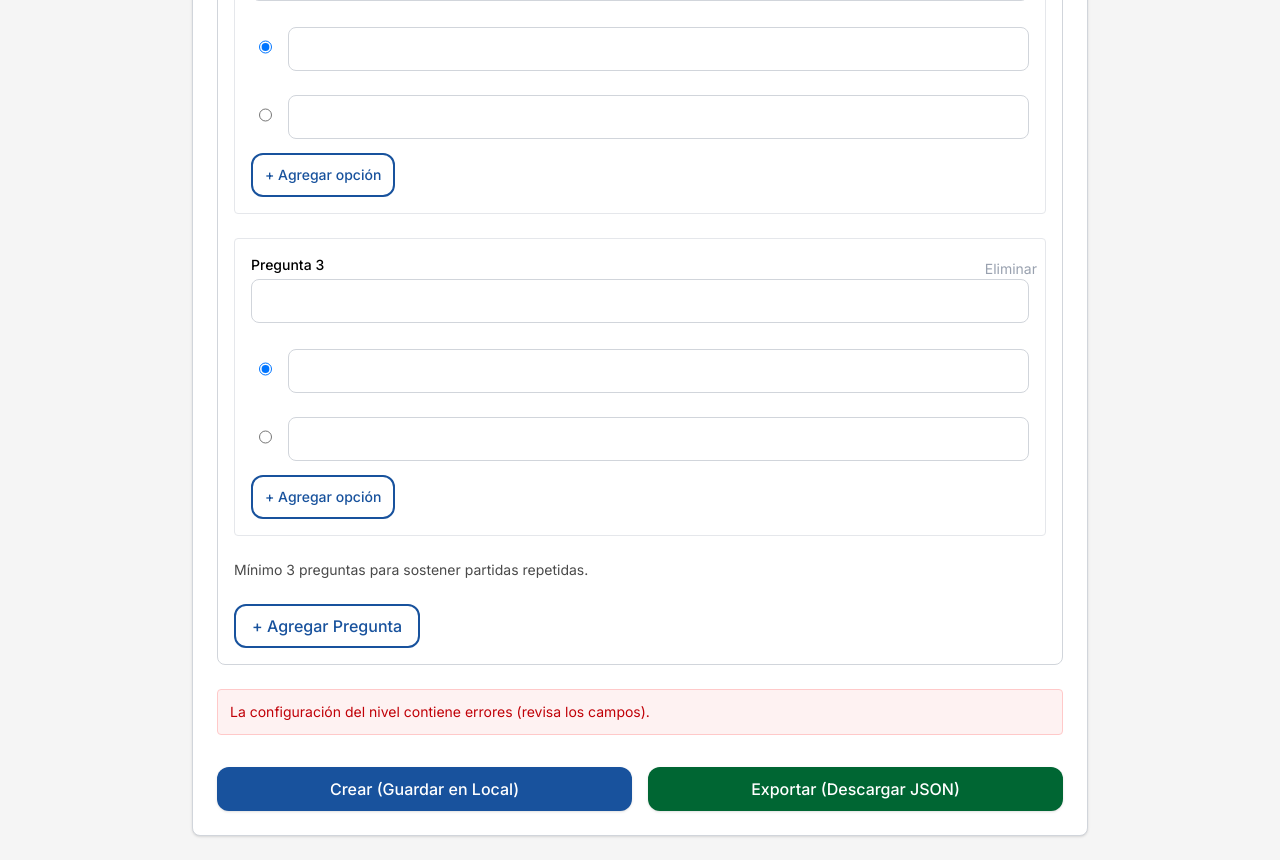
Test: MakerPage › refuses to save when the title is empty
This screenshot has width=1280, height=860.
(page scrolled)
Click the button "Crear (Guardar en Local)": (424, 789) [217,767,632,811]
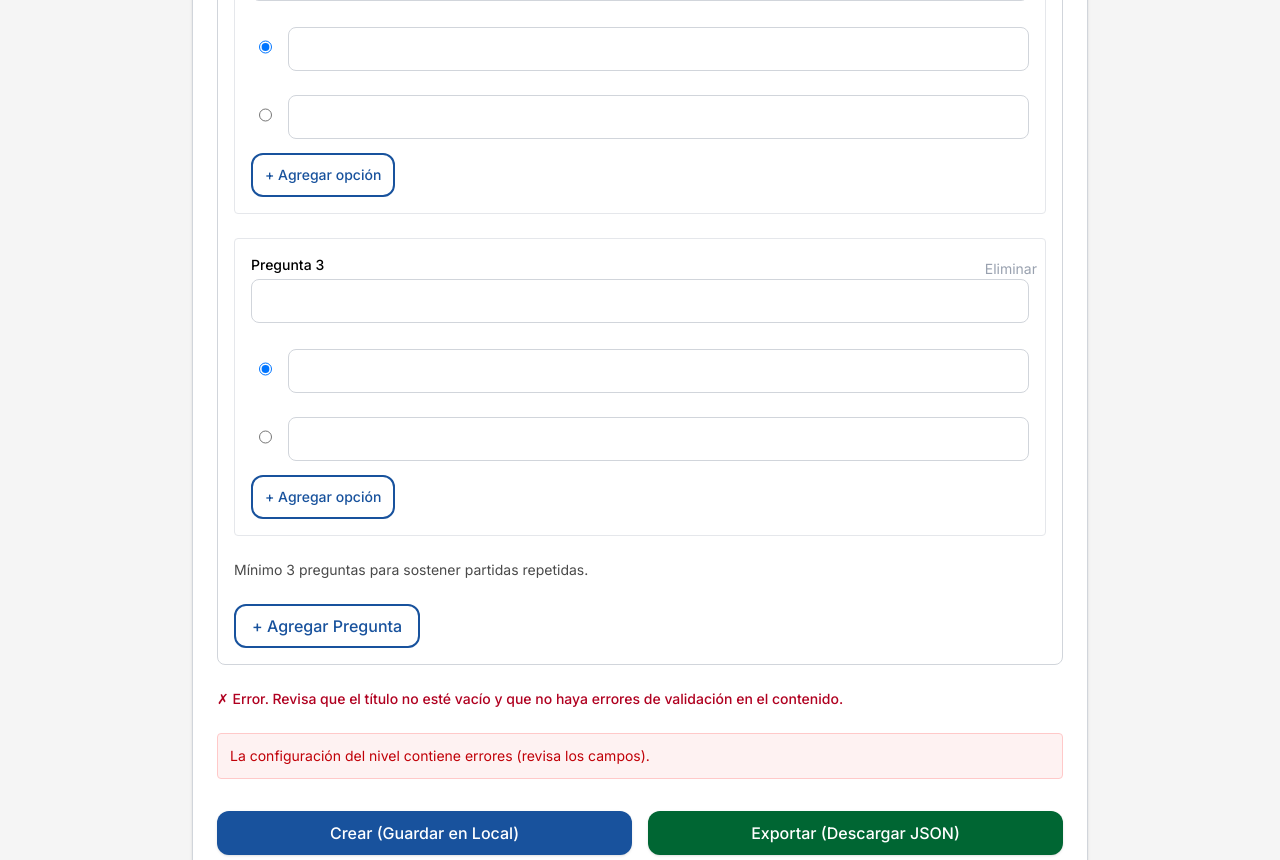
Result: the text "Revisa que el título no esté vacío" is shown at [217,690,843,707]
